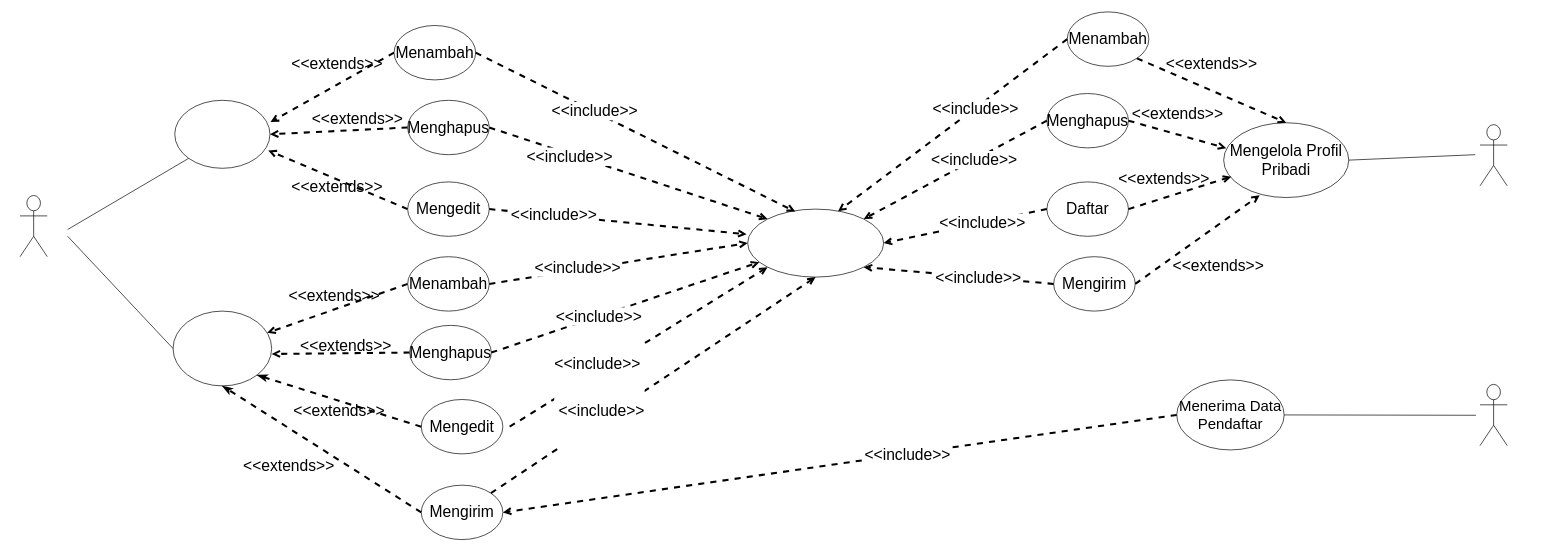
Image size: 1556x551. Some labels were removed from this diagram. The centre of each missing label's shape, as x and y in pixels:
ADMIN: pixel 33 226
Login: pixel 815 242
Mengelola Data Kampus: pixel 222 348
Mengelola Data User: pixel 222 134
PIHAK KAMPUS: pixel 1493 415
USER: pixel 1493 155
